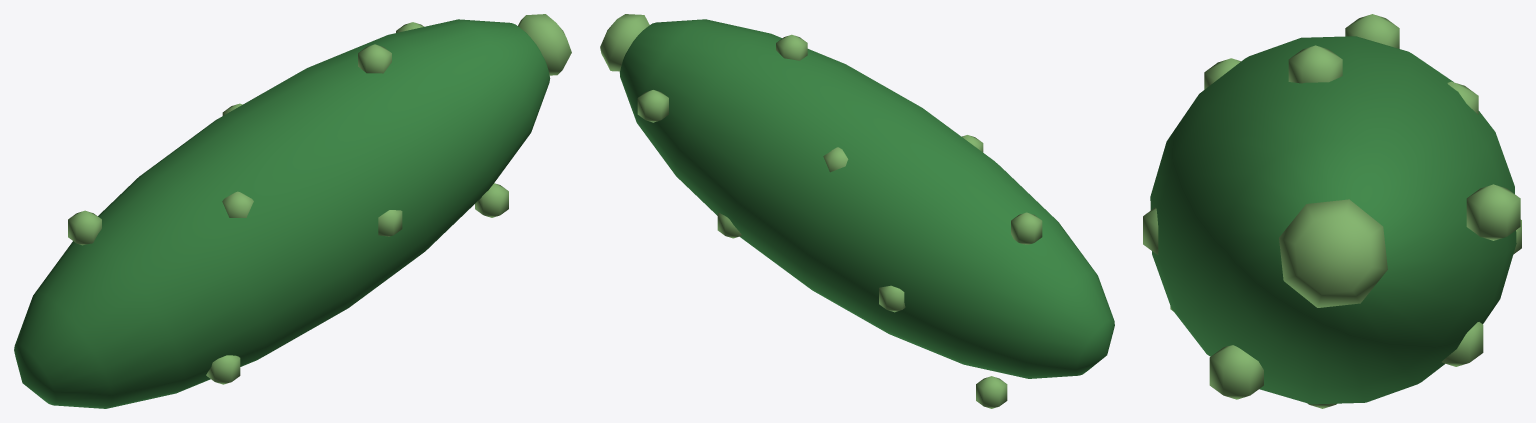
File: cucumber.glb
3 views of the same model, side by side, from view 1: azimuth 30°, elevation 25°; view 2: azimuth 150°, elevation 25°; view 3: azimuth 270°, elevation 25° (orthographic). The views are drawn at different scales.
Visible parts, largest first — view 1: cucumber; view 2: cucumber; view 3: cucumber.
Part boxes in pixels (box(x1,y1,x2,y2)): cucumber: box(14, 14, 571, 408); cucumber: box(600, 14, 1114, 408); cucumber: box(1143, 14, 1521, 408).
Size of the model in its own units: 0.7007 by 0.3988 by 0.2667.
